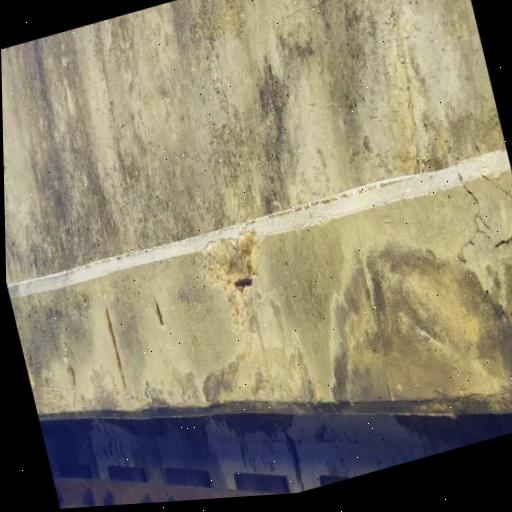exposed_rebar: (104, 306, 127, 393), (154, 300, 163, 325), (234, 277, 252, 288)
spalling: (202, 230, 258, 290)
